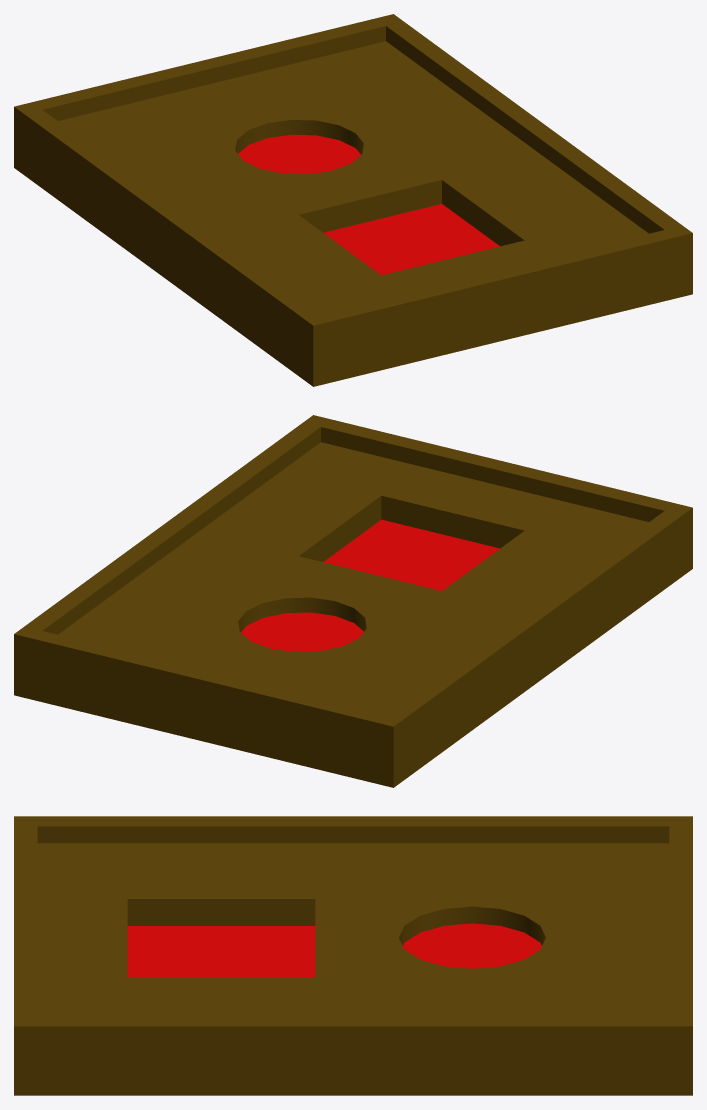
Rendered from Corps.fbx.
3 renders of one model, top to bottom at view 1: azimuth 30°, elevation 25°; view 2: azimuth 150°, elevation 25°; view 3: azimuth 270°, elevation 25°, orthographic. The views are drawn at different scales.
Visible parts, largest first — view 1: pCube5; view 2: pCube5; view 3: pCube5.
Part boxes in pixels (x1,y1,x2,y2): pCube5: (14,14,692,386); pCube5: (14,415,692,787); pCube5: (14,816,692,1095).
Size of the model in its own units: 8.63 by 1.33 by 11.78.
